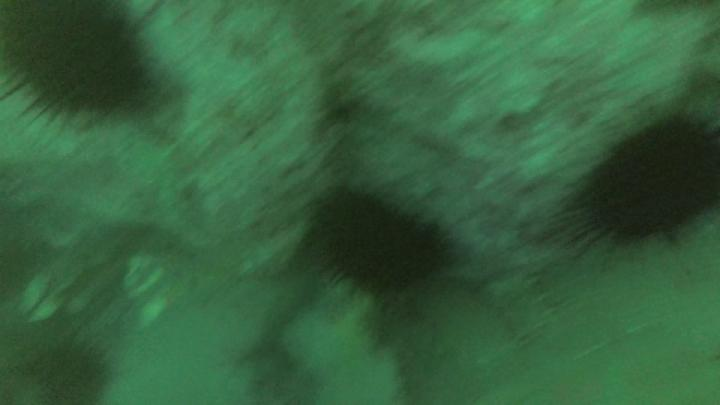echinus: (537, 107, 720, 263), (1, 1, 177, 139), (318, 184, 454, 308), (18, 325, 129, 405)
